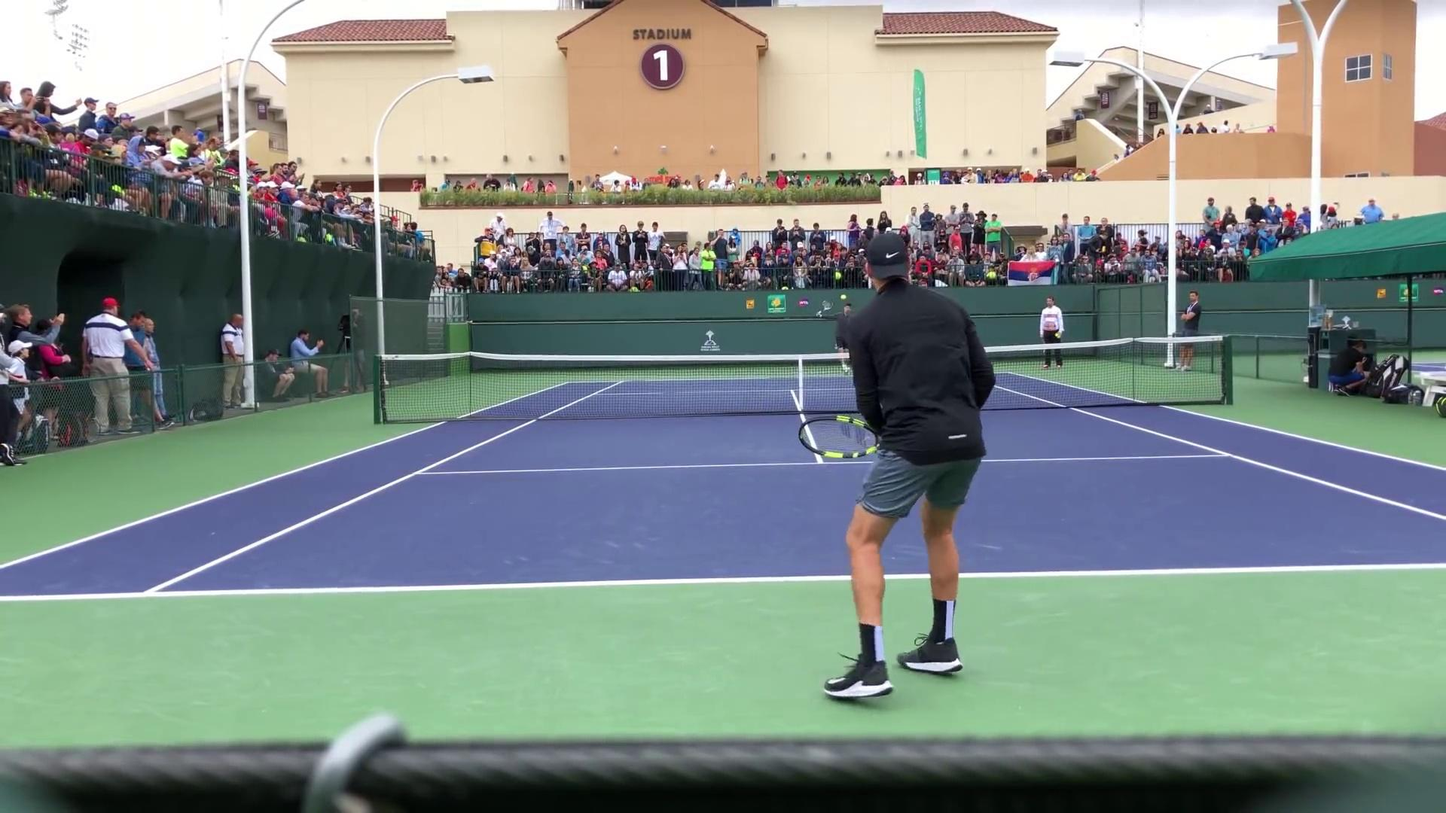ball: (955, 433, 963, 441), (838, 294, 848, 300)
